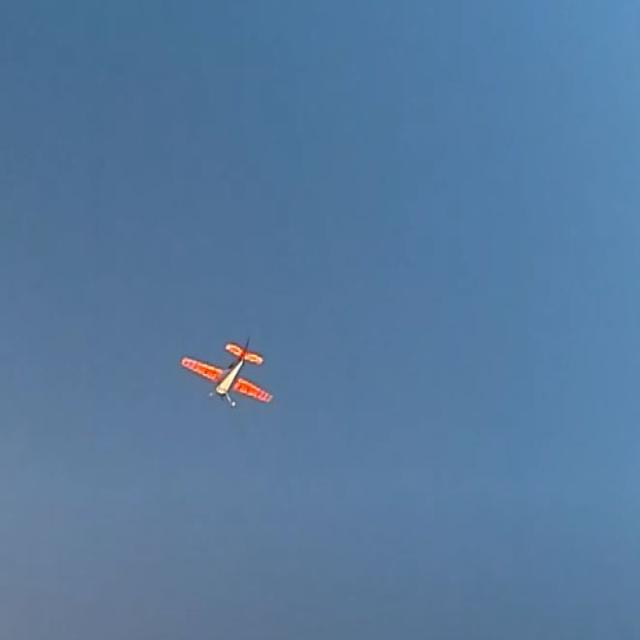iha: (213, 370, 242, 375)
